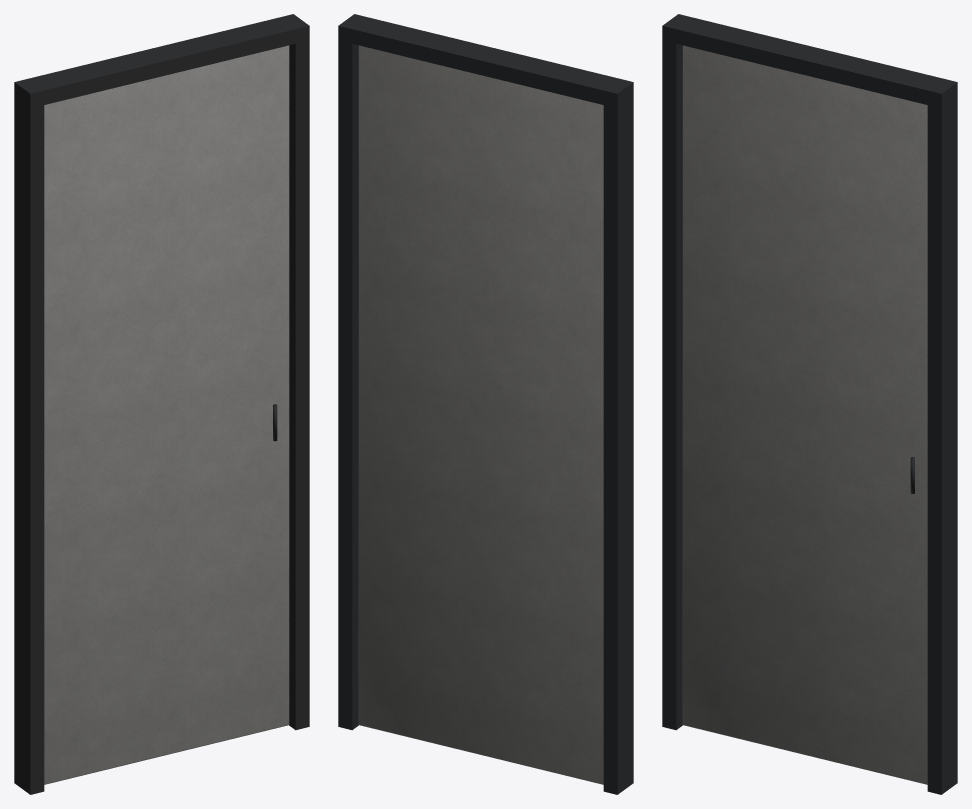
Rendered from architecture.acoustic-door.glb.
The picture shows the model from 3 angles, left to right: view 1: azimuth 30°, elevation 25°; view 2: azimuth 150°, elevation 25°; view 3: azimuth 330°, elevation 25°; orthographic projection.
Visible parts, largest first — view 1: architecture.acoustic-door.001; view 2: architecture.acoustic-door.001; view 3: architecture.acoustic-door.001.
Boxes of the visible parts, x1,y1,x2,y2 form: architecture.acoustic-door.001: [14, 14, 309, 794]; architecture.acoustic-door.001: [338, 14, 633, 794]; architecture.acoustic-door.001: [662, 14, 957, 794].
Bounding box in the file's own units: 1 × 2.4 × 0.1.
Materials: 2 (1 with a texture image).
